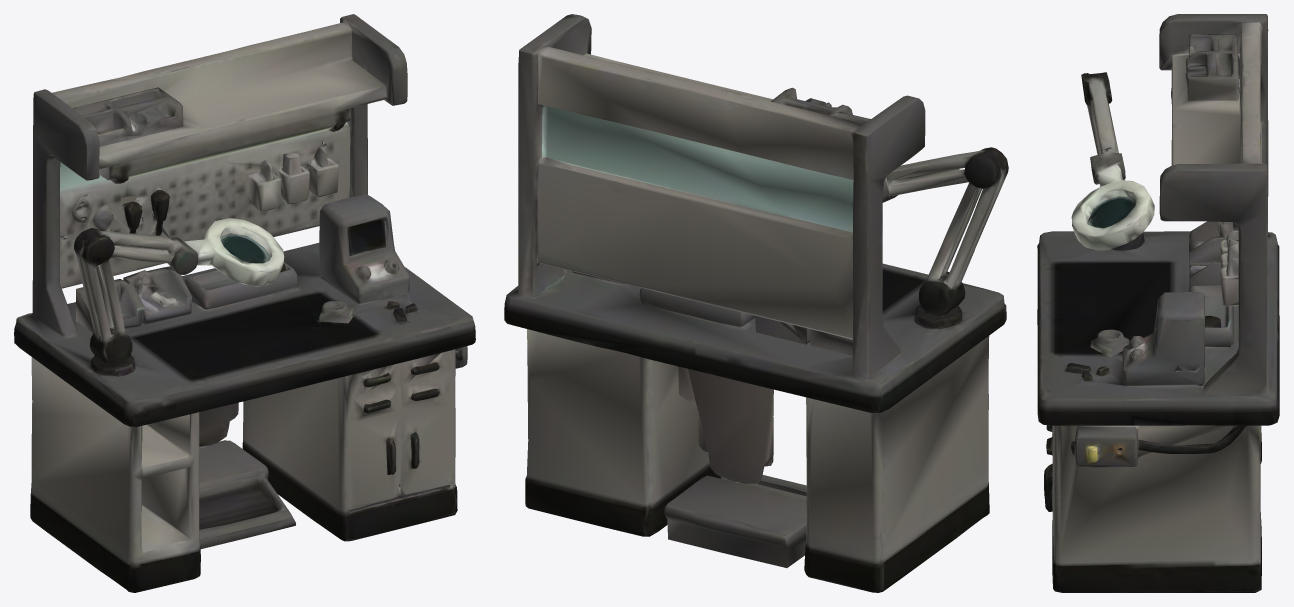
Rendered from inspection_bench.glb.
The picture shows the model from 3 angles, left to right: view 1: azimuth 30°, elevation 25°; view 2: azimuth 150°, elevation 25°; view 3: azimuth 270°, elevation 25°; orthographic projection. The views are drawn at different scales.
Parts seen in each view (by area): view 1: geometry_0; view 2: geometry_0; view 3: geometry_0.
Boxes of the visible parts, x1,y1,x2,y2 form: geometry_0: (14,14,475,592); geometry_0: (504,14,1008,592); geometry_0: (1037,14,1279,592).
Bounding box in the file's own units: 0.9505 × 1 × 0.5188.
1 material, 1 textured.
